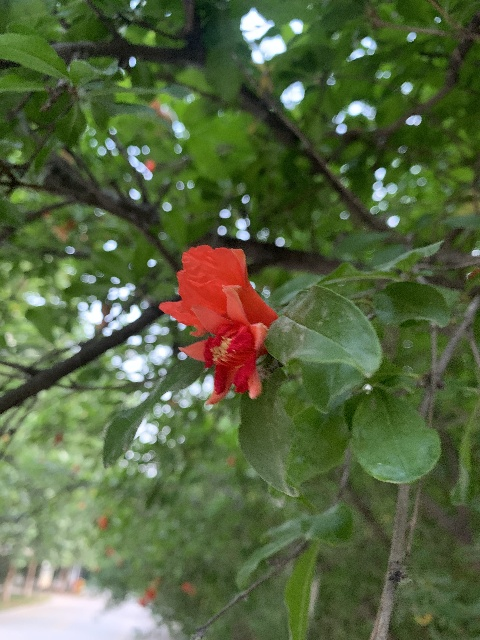flower: (177, 287, 269, 405), (157, 243, 277, 333)
